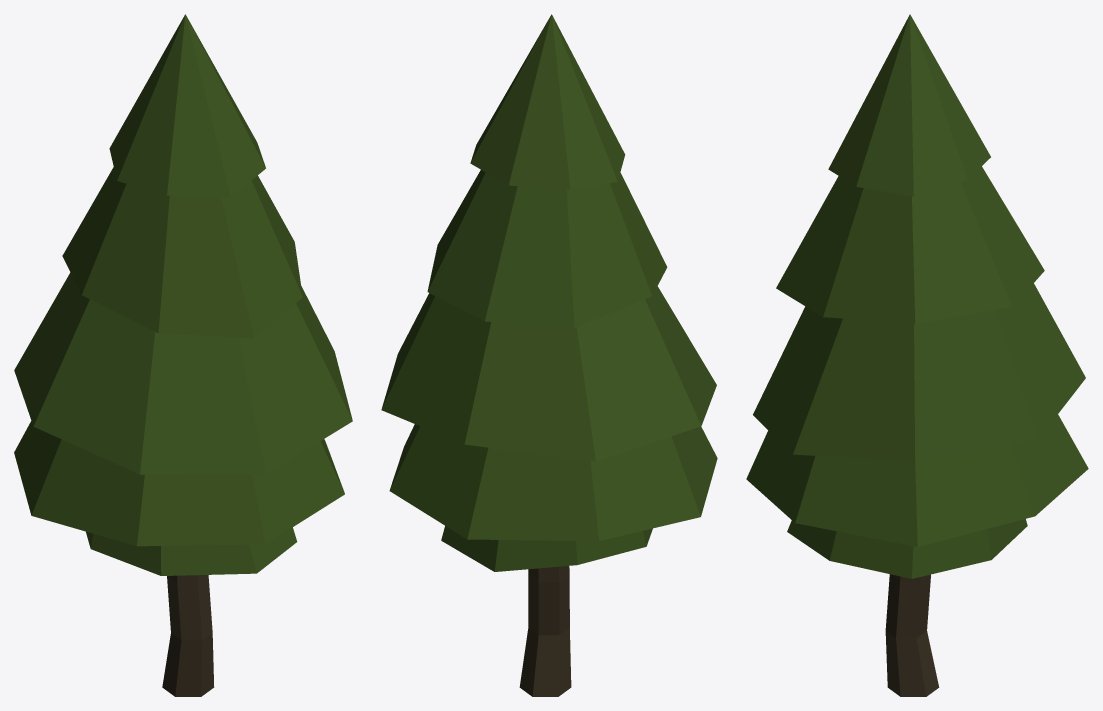
The model's file is Tree 01.fbx.
3 renders of one model, left to right at view 1: azimuth 30°, elevation 25°; view 2: azimuth 150°, elevation 25°; view 3: azimuth 270°, elevation 25°, orthographic.
Parts seen in each view (by area): view 1: Cube; view 2: Cube; view 3: Cube.
Part boxes in pixels (bbox=[...]): Cube: bbox=[14, 14, 352, 696]; Cube: bbox=[381, 14, 717, 696]; Cube: bbox=[746, 14, 1088, 696].
Size of the model in its own units: 143 by 304 by 141.
